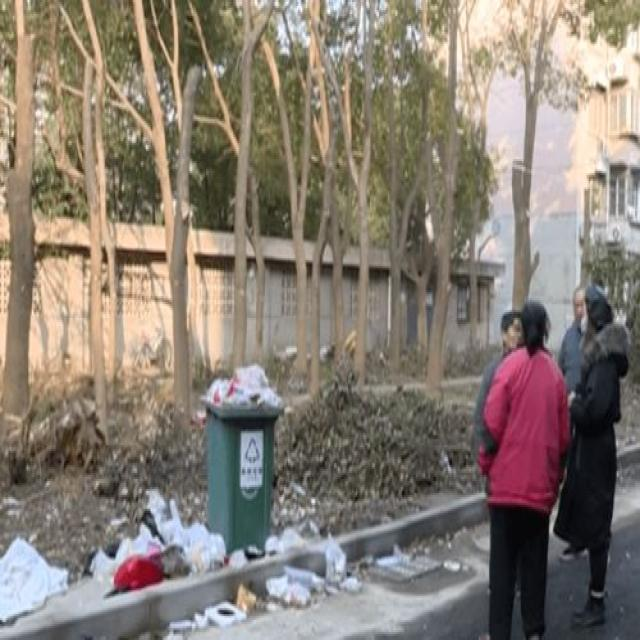garbage: (0, 483, 360, 638)
overflow: (198, 362, 280, 550)
